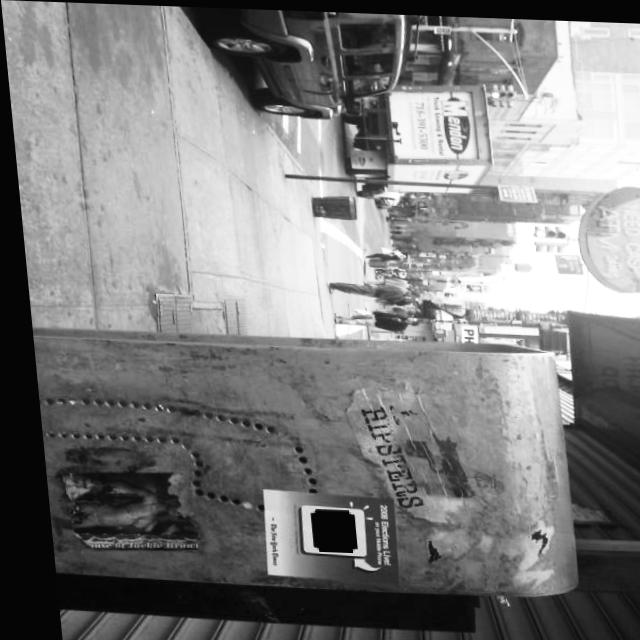qr_code: (302, 509, 343, 549)
